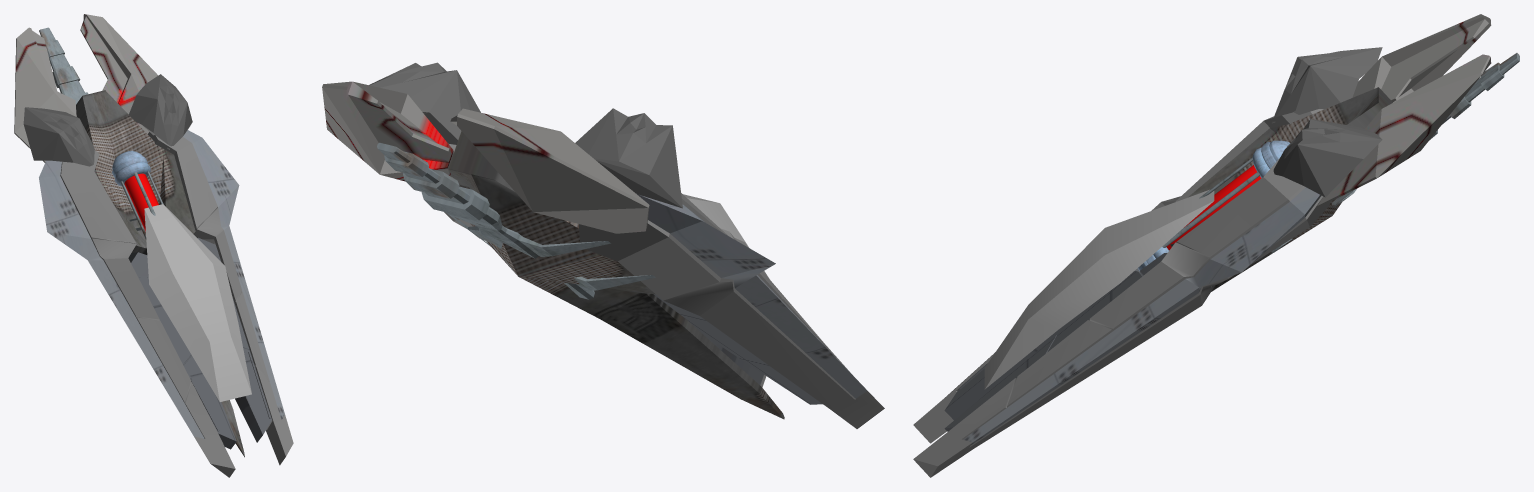
Rendered from weak_clkari.fbx.
The picture shows the model from 3 angles, left to right: view 1: azimuth 30°, elevation 25°; view 2: azimuth 150°, elevation 25°; view 3: azimuth 270°, elevation 25°; orthographic projection. The views are drawn at different scales.
Visible parts, largest first — view 1: polySurface3341, polySurface3333; view 2: polySurface3341, polySurface3333; view 3: polySurface3341, polySurface3333.
Part boxes in pixels (left/top/right/bottom): polySurface3341: left=14, top=14, right=293, bottom=477; polySurface3333: left=144, top=204, right=251, bottom=401; polySurface3341: left=322, top=62, right=884, bottom=428; polySurface3333: left=683, top=194, right=769, bottom=279; polySurface3341: left=913, top=14, right=1519, bottom=477; polySurface3333: left=984, top=189, right=1214, bottom=389.
Size of the model in its own units: 3.97 by 6.03 by 7.77.
